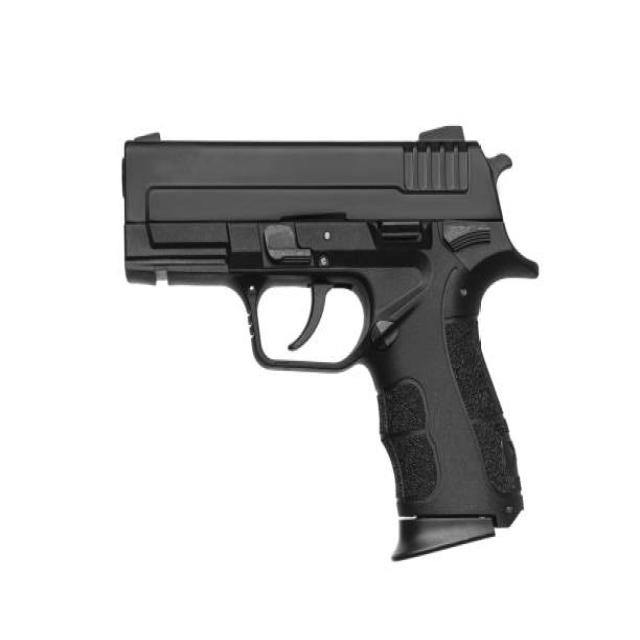pistol: (105, 118, 538, 581)
